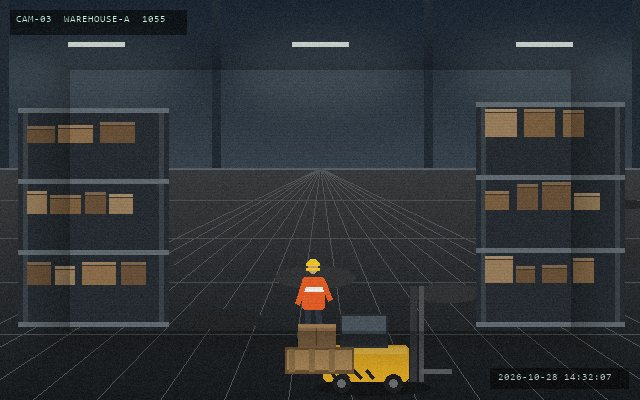forklift: (319, 284, 453, 395)
pallet: (283, 345, 355, 375)
person: (295, 257, 332, 342)
shelf: (476, 102, 624, 322), (18, 108, 168, 322)
